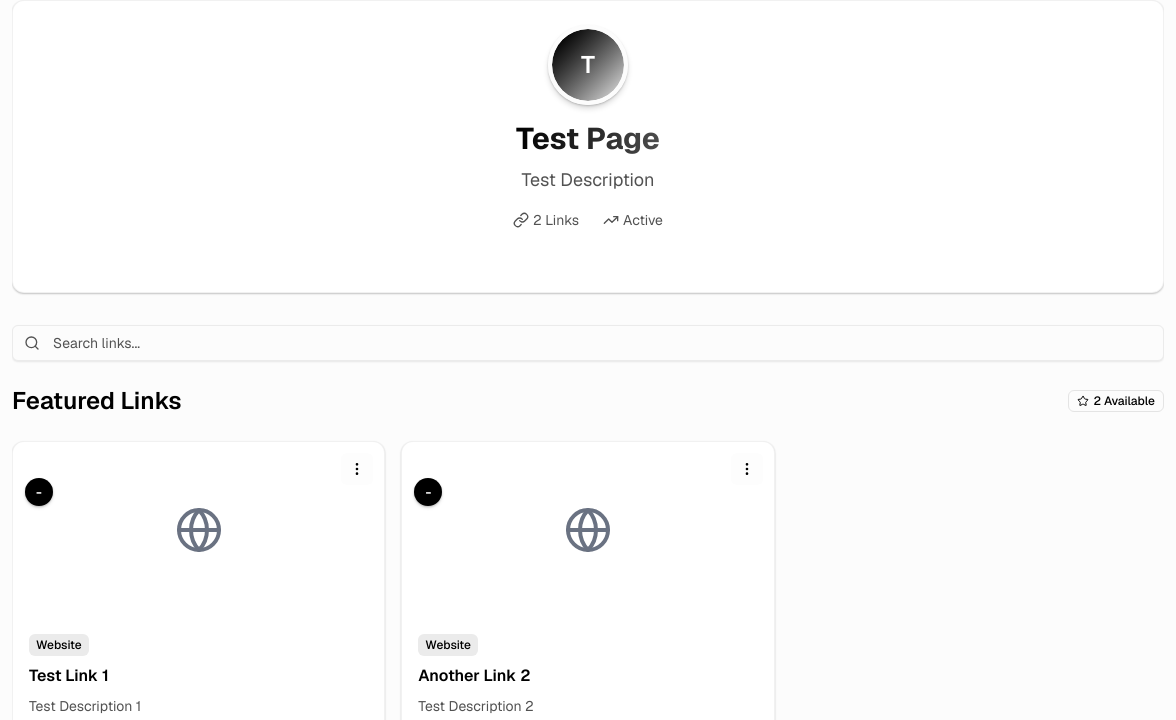
it: LinksView Search Performance › should clear search without page reload
The image size is (1176, 720).
Type in search input
Type "test" into the field with placeholder "Search links..." at [588, 343], box [12,325,1164,361]
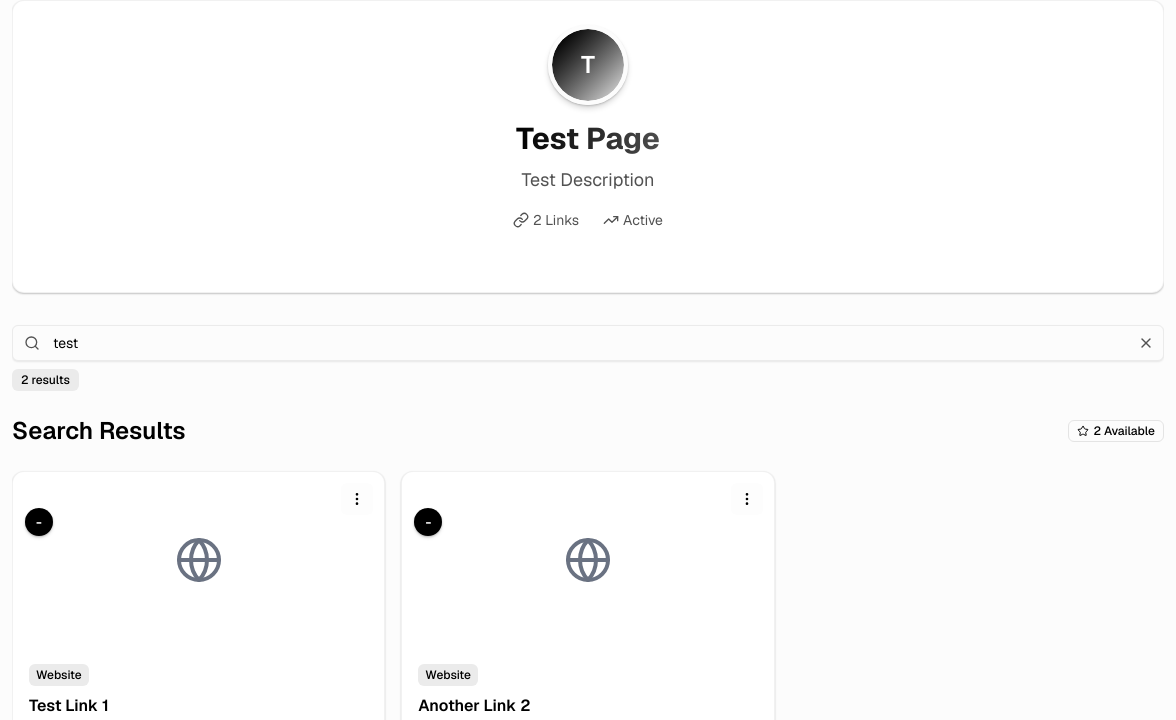
Clear search
Click the button with test id "clear-search-button" at [1146, 343], box [1132,329,1160,357]
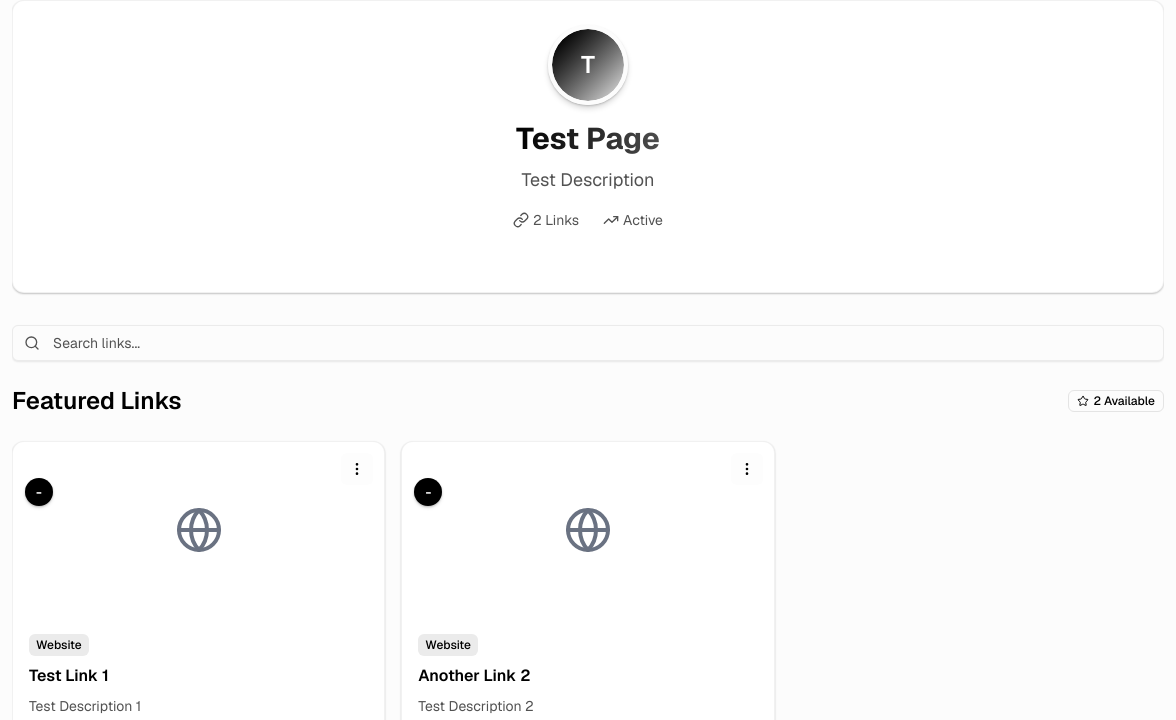
Expected: the text "Test Page" is shown, [516,121,660,157]
Expected: the heading "Featured Links" is shown, [12,385,182,417]
